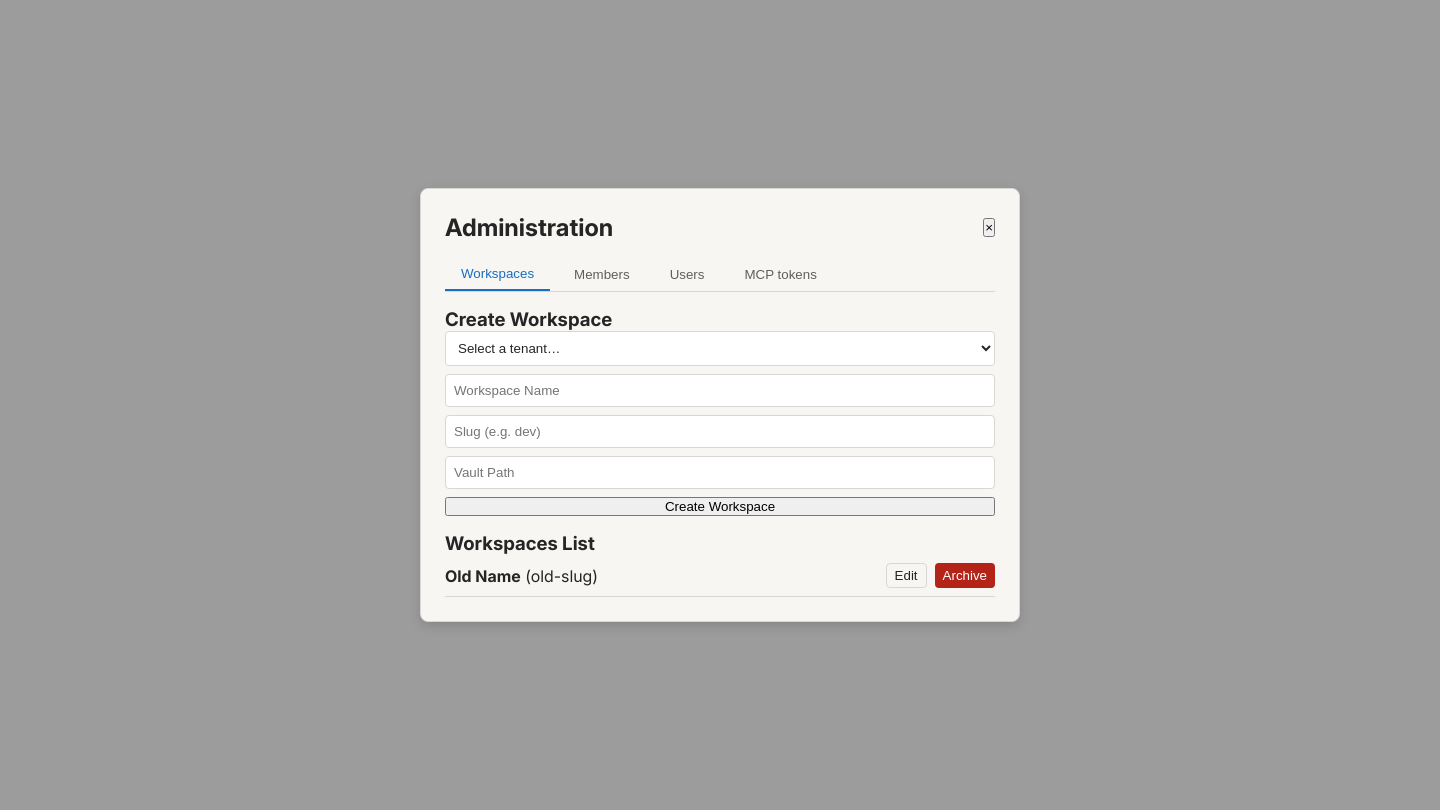
AdminPanel Component › shows the backend validation error and keeps the edit form open when saving fails
The width and height of the screenshot is (1440, 810).
Click the button with test id "admin-edit-workspace-btn" at (906, 576), box [886,563,927,588]
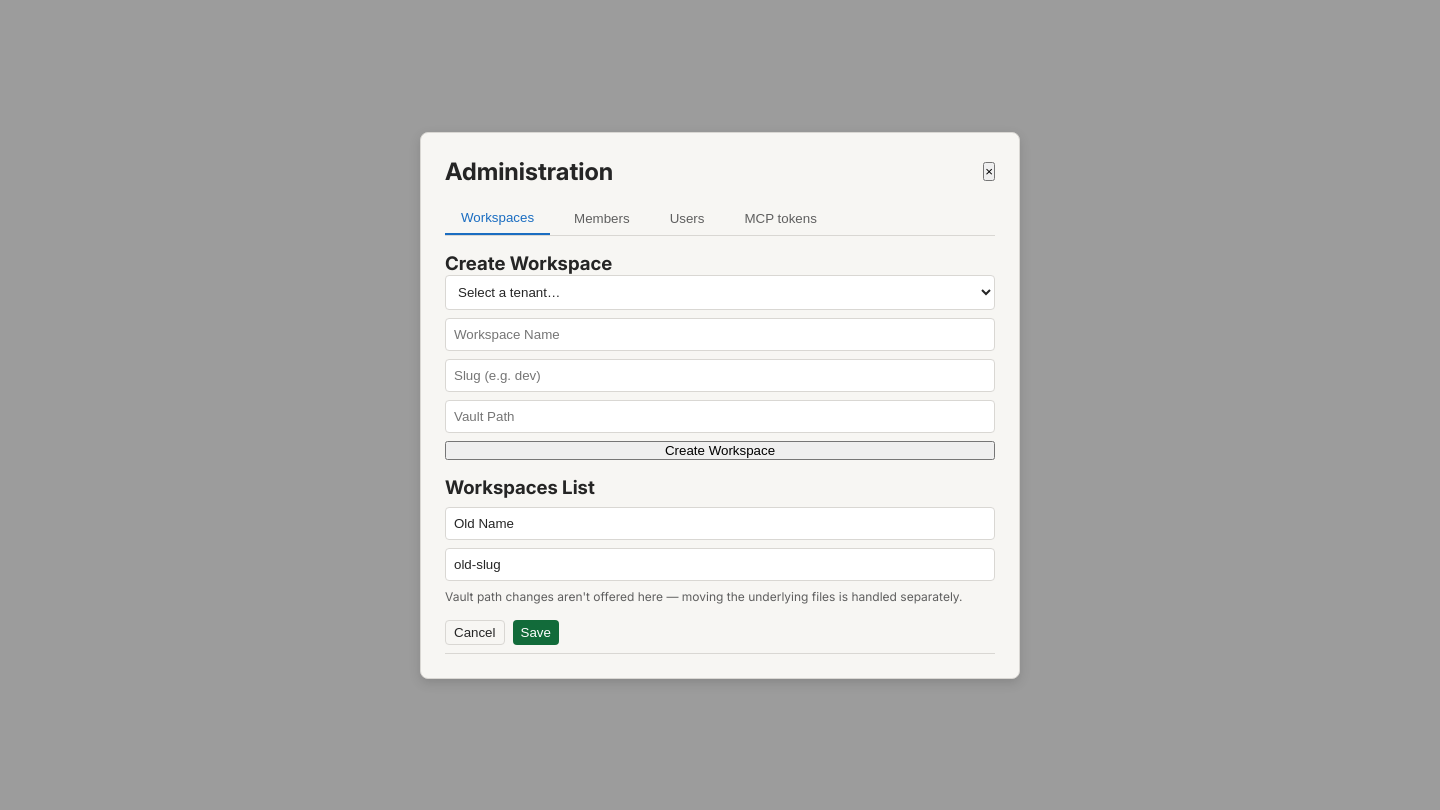
Replace the text in the field with test id "admin-edit-workspace-slug" with "taken-slug" at (720, 564), box [445,548,995,580]
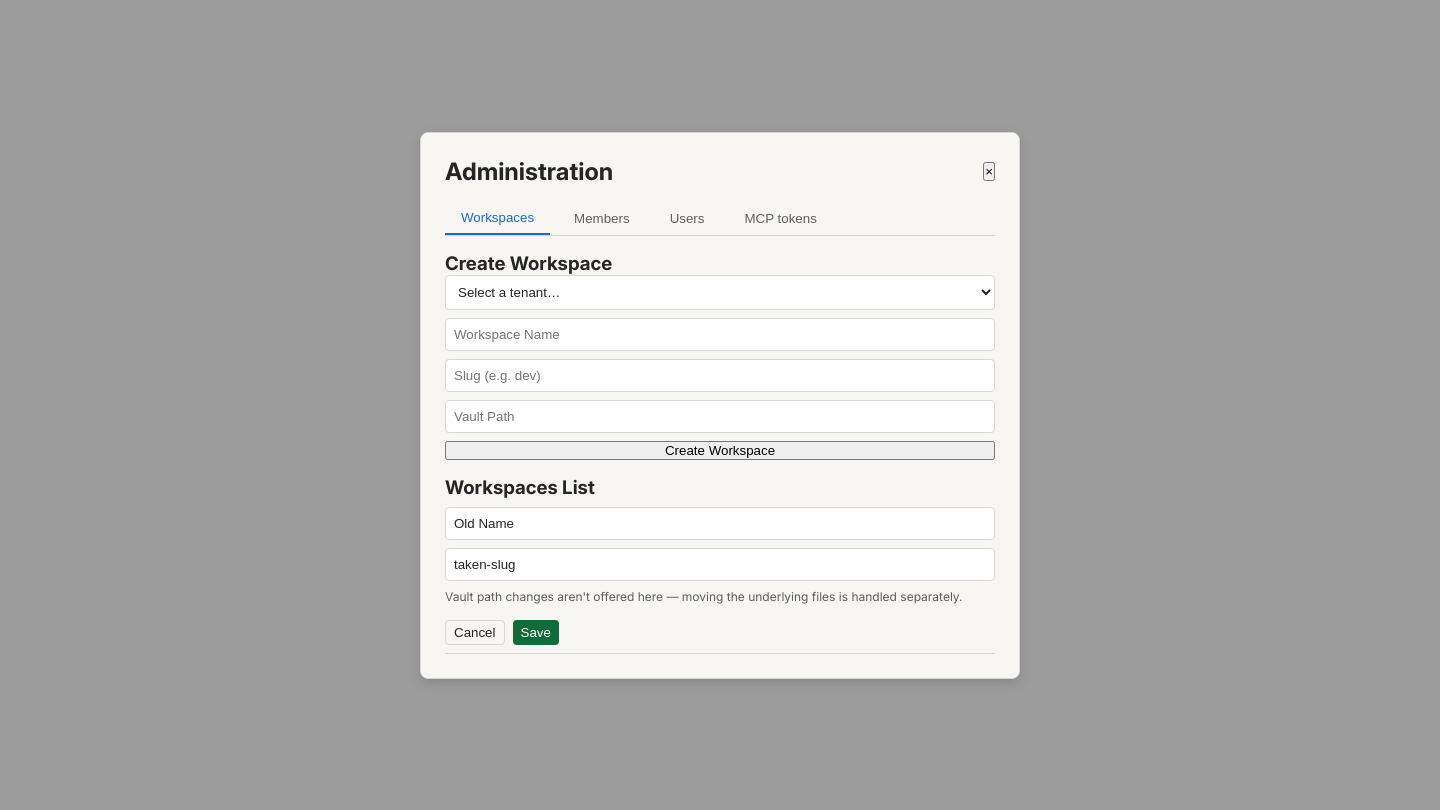
Click the button with test id "admin-edit-workspace-save" at (536, 632), box [512,620,559,644]
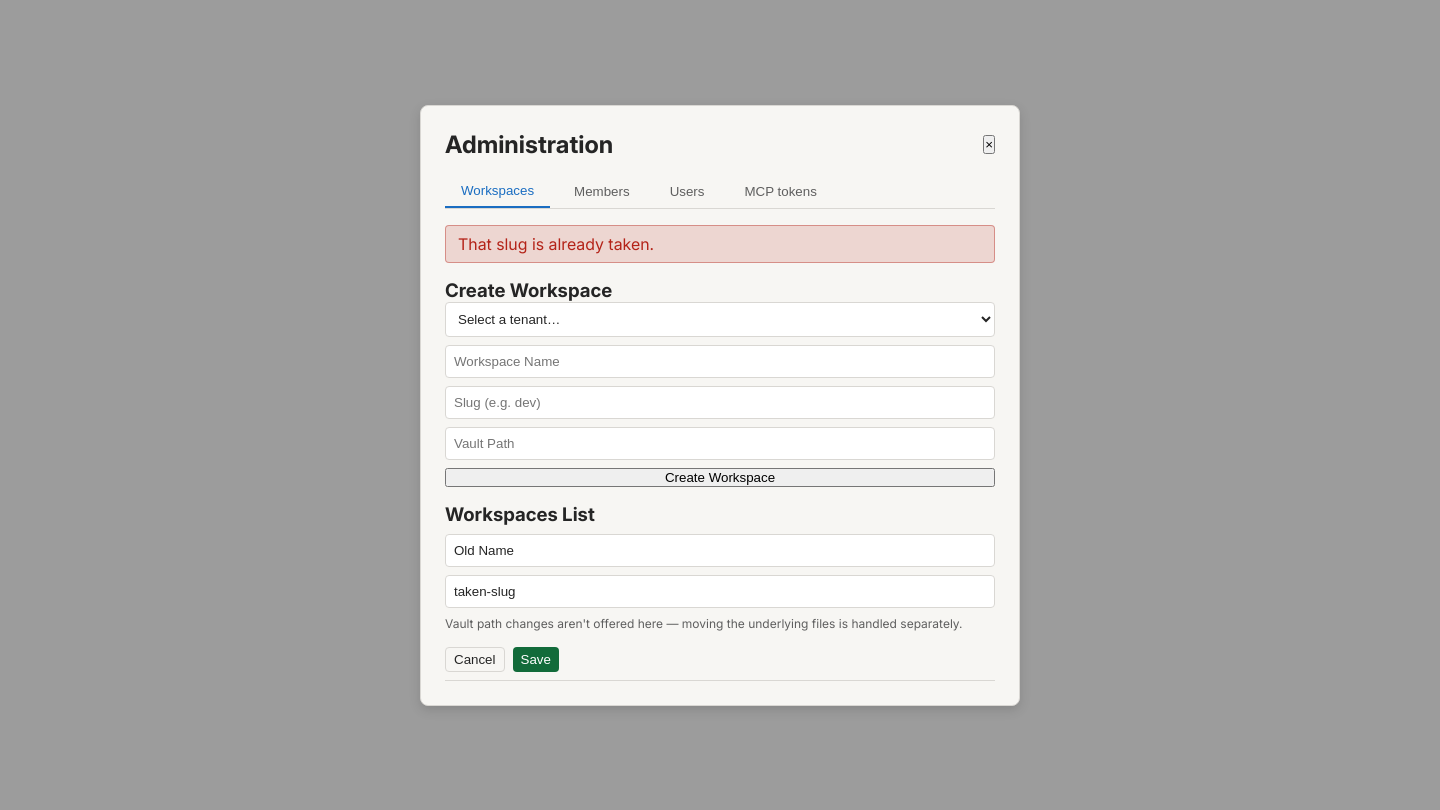
Now the field with test id "admin-edit-workspace-name" is shown, box [445,534,995,566]
Now the text "That slug is already taken." is shown, box [445,224,995,262]
